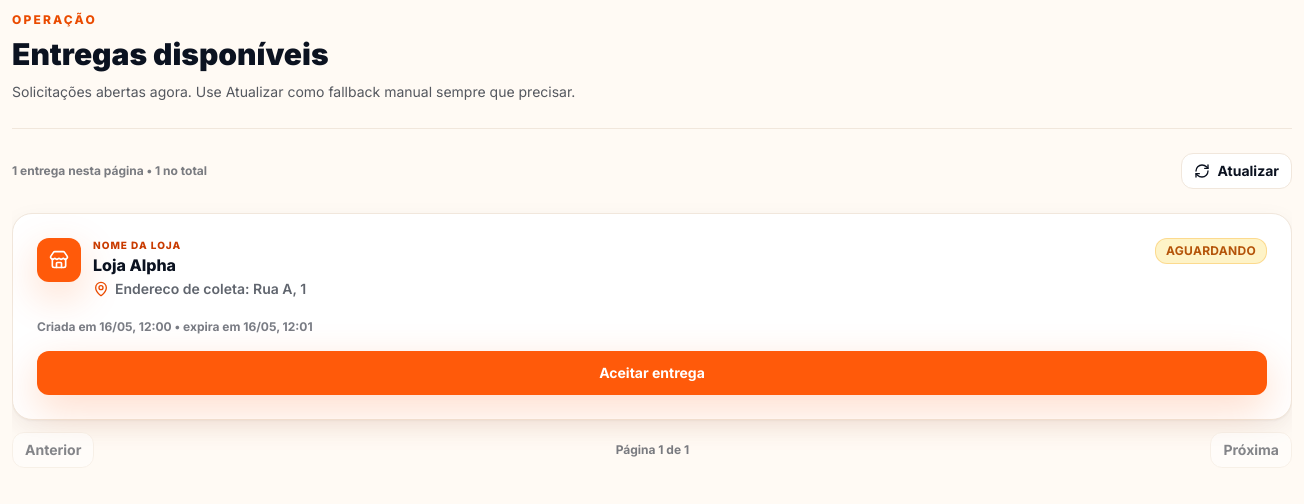
Test: FilaDisponivel › does not render an address line on the fallback accepted state when it is absent
Click the button "Aceitar entrega" at (652, 373), box [37,351,1267,395]
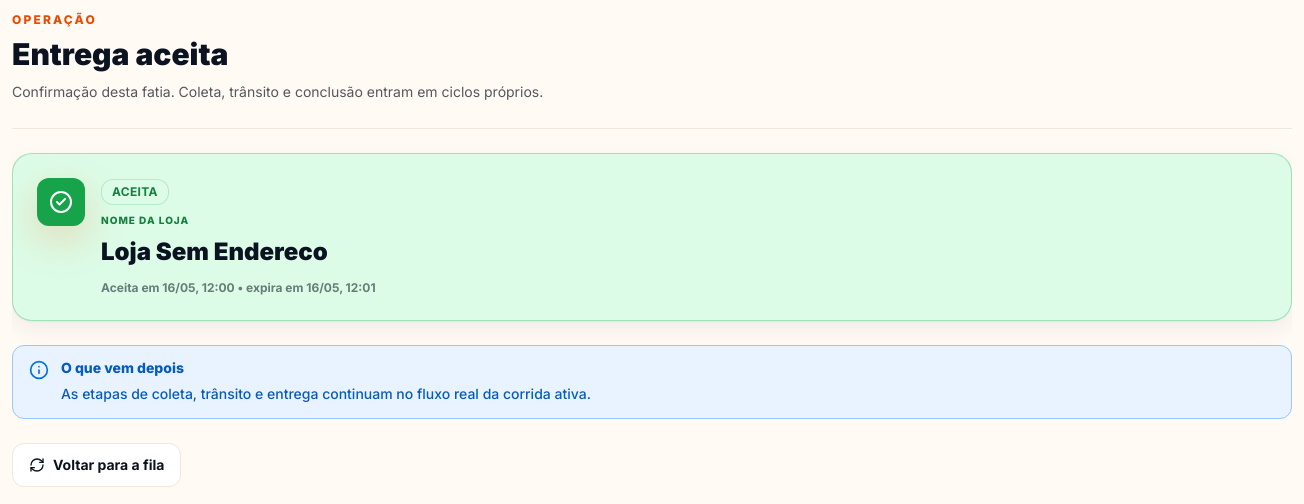
Expected: the text "Nome da loja" is shown, [101,214,189,226]
Expected: the heading "Entrega aceita" is shown, [12,36,228,72]
Expected: the heading "Loja Sem Endereco" is shown, [101,237,328,266]
